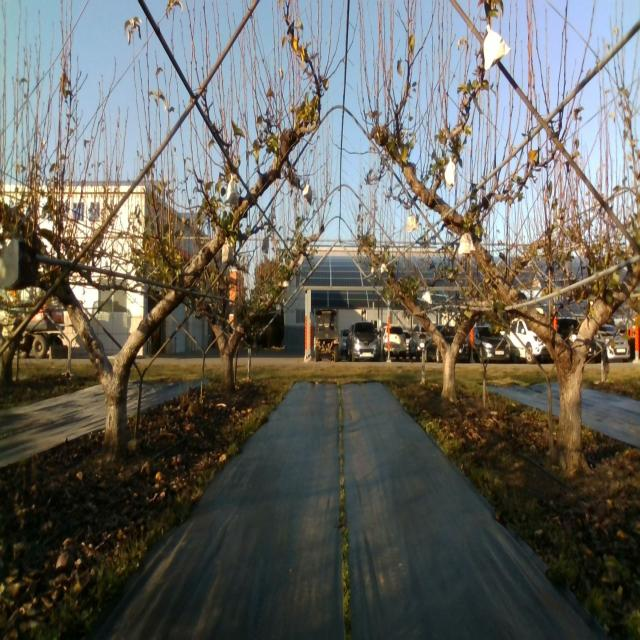pearbags: (483, 24, 511, 69), (458, 233, 475, 256), (227, 173, 238, 206), (445, 158, 456, 187), (222, 238, 234, 264), (406, 209, 418, 232)
